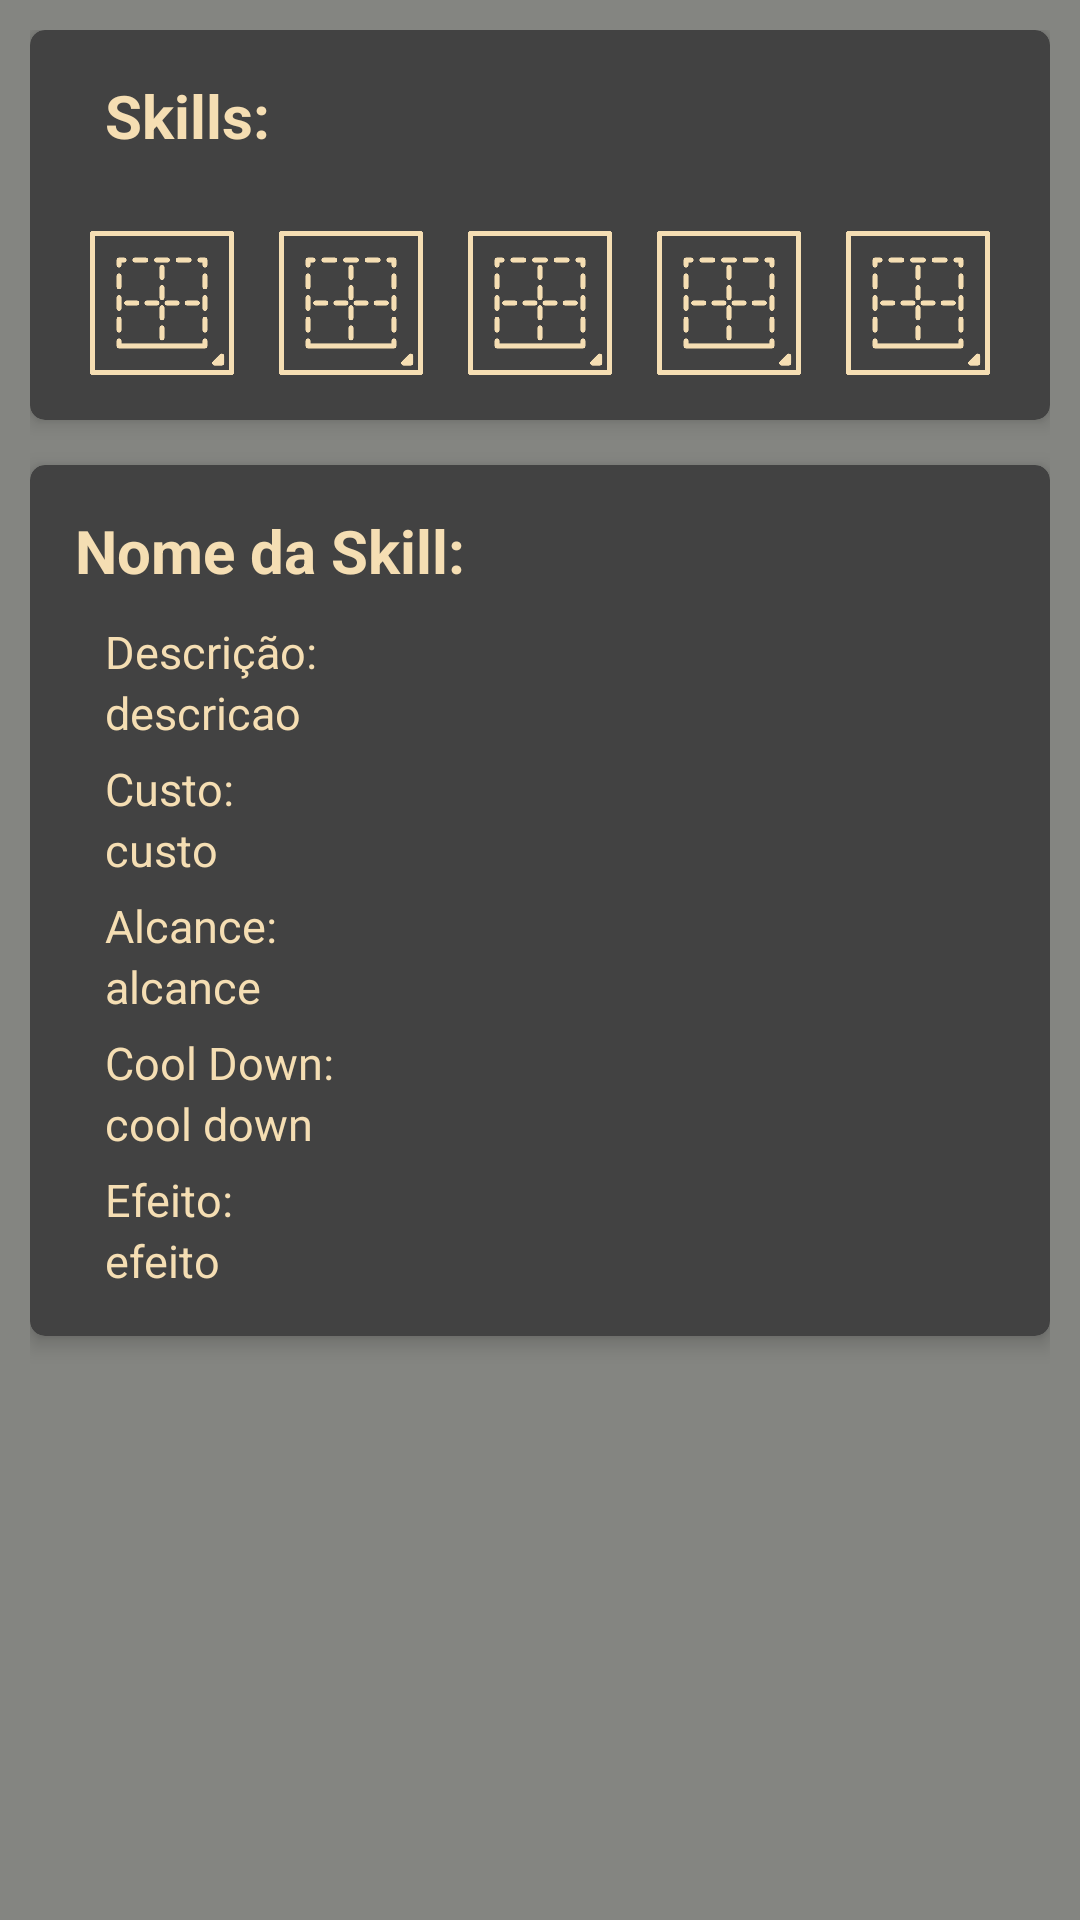

Point at icon controls on the screen. Image size 1080 x 1920, points as (x=x, y=y).
border: (x=162, y=303), (x=351, y=303), (x=540, y=303), (x=729, y=303), (x=918, y=303)
